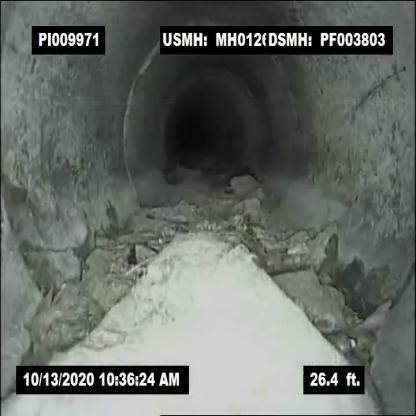Obstacle: (61, 205, 344, 364)
